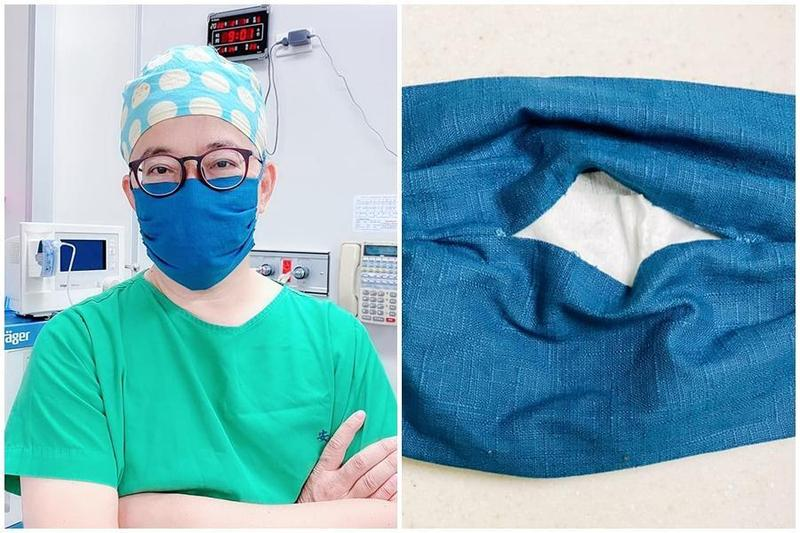Mask: (128, 113, 267, 297)
